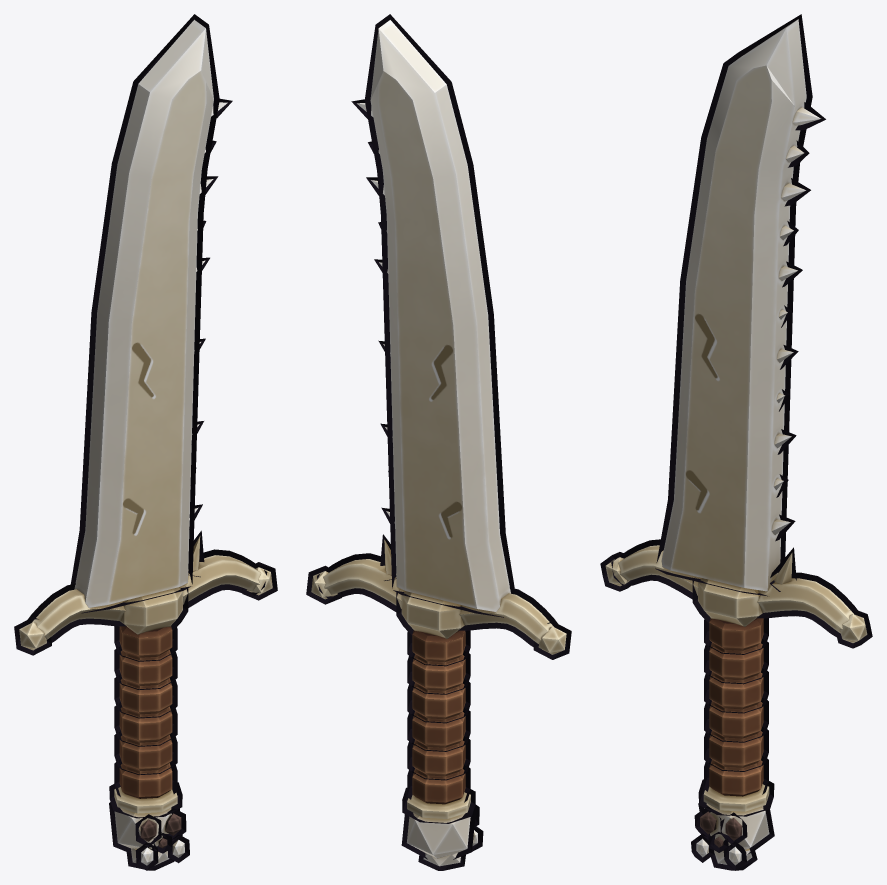
Rendered from JawboneSword.fbx.
The picture shows the model from 3 angles, left to right: view 1: azimuth 30°, elevation 25°; view 2: azimuth 150°, elevation 25°; view 3: azimuth 330°, elevation 25°; orthographic projection. The views are drawn at different scales.
Visible parts, largest first — view 1: JawboneSword, JawboneSwordOutline; view 2: JawboneSword, JawboneSwordOutline; view 3: JawboneSword, JawboneSwordOutline.
Boxes of the visible parts, bbox=[...] form: JawboneSword: bbox=[19, 19, 272, 865]; JawboneSwordOutline: bbox=[14, 14, 277, 870]; JawboneSword: bbox=[311, 20, 566, 866]; JawboneSwordOutline: bbox=[306, 14, 571, 870]; JawboneSword: bbox=[605, 19, 867, 865]; JawboneSwordOutline: bbox=[600, 14, 872, 870].
Size of the model in its own units: 115 by 353 by 31.07.
2 materials, 1 textured.
